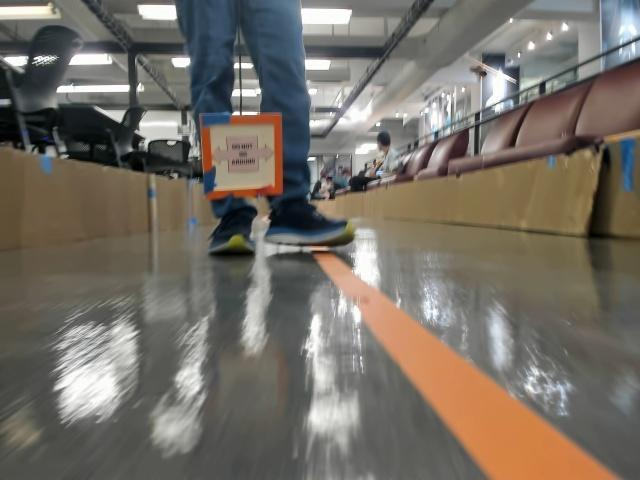Do Not Go Around: (210, 136, 271, 173)
